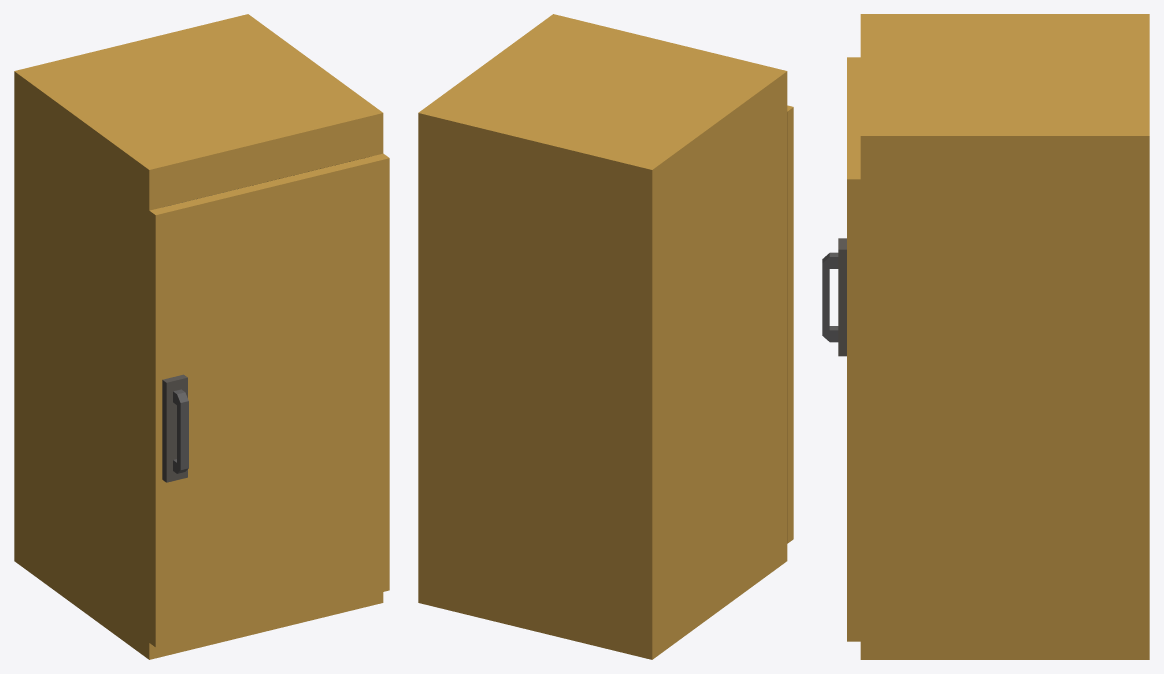
The model's file is dryingcabinets_01_D.gltf.
The picture shows the model from 3 angles, left to right: view 1: azimuth 30°, elevation 25°; view 2: azimuth 150°, elevation 25°; view 3: azimuth 270°, elevation 25°; orthographic projection. The views are drawn at different scales.
Parts seen in each view (by area): view 1: dryingcabinets_01_D, Doordryingcabinets_01_D; view 2: dryingcabinets_01_D, Doordryingcabinets_01_D; view 3: dryingcabinets_01_D, Doordryingcabinets_01_D.
Part boxes in pixels (box(x1,y1,x2,y2)): dryingcabinets_01_D: box(14, 14, 383, 659); Doordryingcabinets_01_D: box(149, 153, 389, 647); dryingcabinets_01_D: box(418, 14, 787, 659); Doordryingcabinets_01_D: box(787, 105, 793, 543); dryingcabinets_01_D: box(860, 14, 1149, 659); Doordryingcabinets_01_D: box(822, 57, 860, 641).
Size of the model in its own units: 1 by 2 by 1.13.
Materials: 1 (1 with a texture image).
